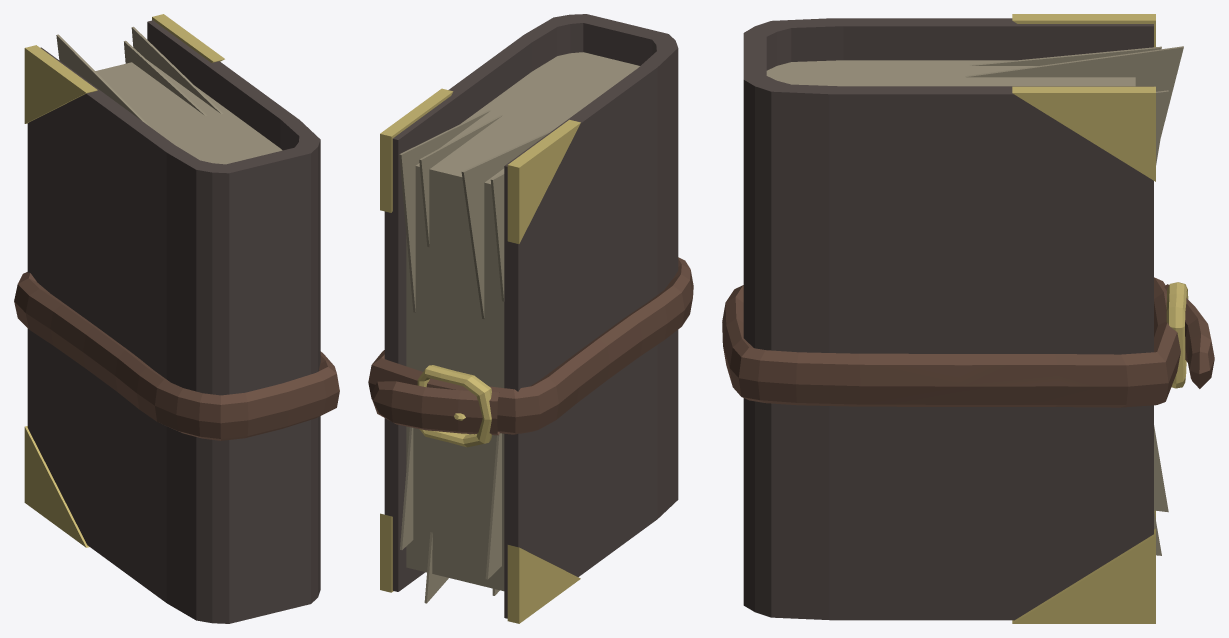
The model's file is SM_Book3_Closed.fbx.
The picture shows the model from 3 angles, left to right: view 1: azimuth 30°, elevation 25°; view 2: azimuth 150°, elevation 25°; view 3: azimuth 270°, elevation 25°; orthographic projection. The views are drawn at different scales.
Parts seen in each view (by area): view 1: SM_Book3_Closed; view 2: SM_Book3_Closed; view 3: SM_Book3_Closed.
Boxes of the visible parts, x1=… form: SM_Book3_Closed: x1=14, y1=14, x2=339, y2=623; SM_Book3_Closed: x1=368, y1=14, x2=693, y2=623; SM_Book3_Closed: x1=722, y1=14, x2=1214, y2=623.
Size of the model in its own units: 31.29 by 80.68 by 67.05.
